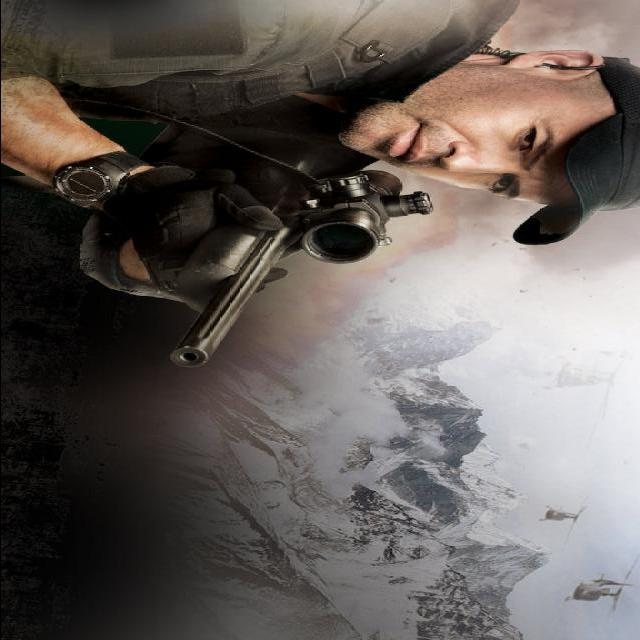scope: (300, 177, 439, 273)
sniper rifle: (153, 132, 443, 406)
